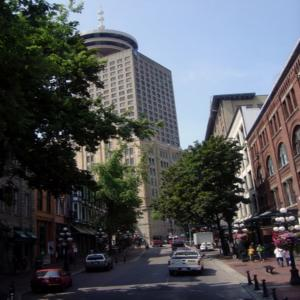Vehicle-registration-plate: (183, 268, 192, 273)
